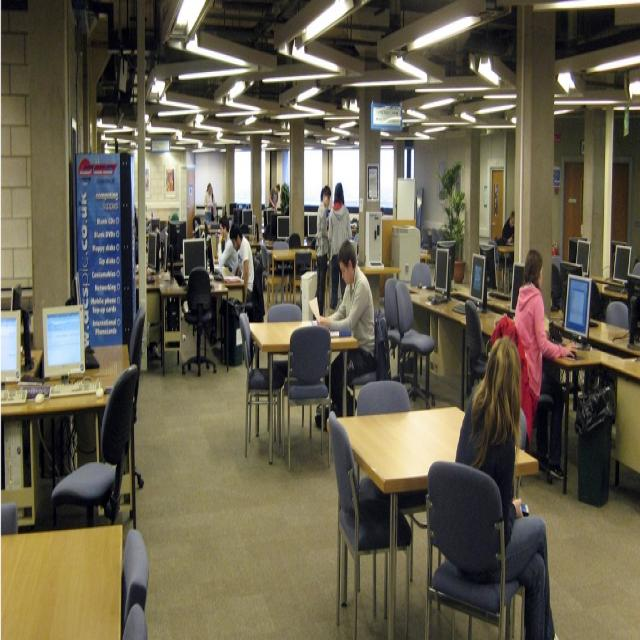chair: (328, 412, 413, 638), (425, 460, 526, 638), (52, 364, 140, 527), (282, 324, 331, 472), (385, 278, 435, 406), (240, 312, 277, 464), (346, 309, 390, 415), (180, 270, 218, 377), (122, 525, 150, 637), (463, 300, 488, 407), (356, 379, 410, 415), (128, 308, 146, 370), (300, 271, 318, 323), (1, 503, 18, 535)
desk: (2, 334, 138, 542)
laptop: (0, 311, 22, 382)
person: (454, 331, 554, 636), (515, 246, 574, 486), (320, 241, 376, 416), (219, 222, 253, 324), (328, 183, 351, 308), (316, 186, 332, 313), (204, 182, 216, 221)
tv: (43, 306, 85, 378), (563, 275, 591, 341), (182, 238, 206, 276)
